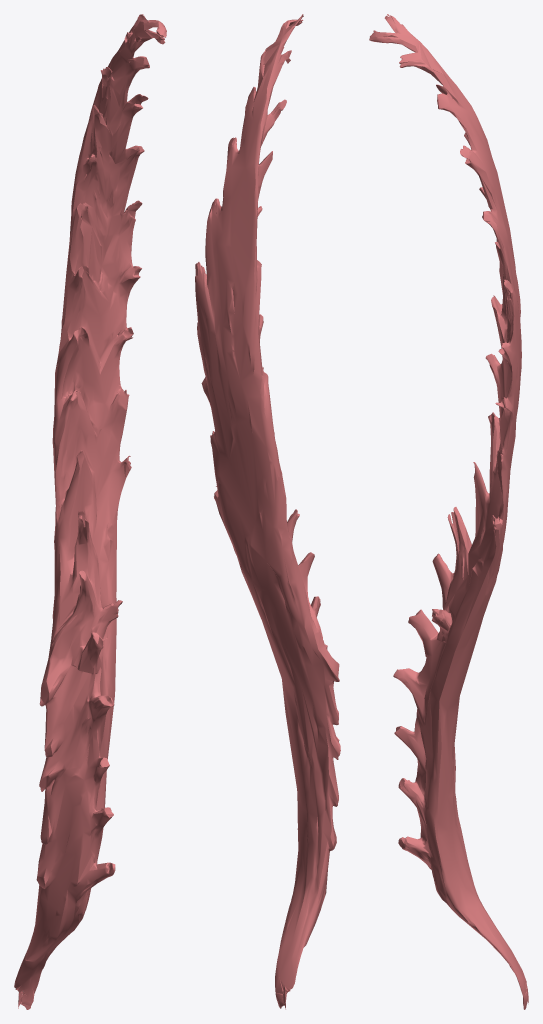
3 views of the same model, side by side, from view 1: azimuth 30°, elevation 25°; view 2: azimuth 150°, elevation 25°; view 3: azimuth 270°, elevation 25° (orthographic). The views are drawn at different scales.
Visible parts, largest first — view 1: FJ1535M; view 2: FJ1535M; view 3: FJ1535M.
Boxes of the visible parts, <box> form: FJ1535M: <box>14,14,166,1009</box>; FJ1535M: <box>195,14,340,1009</box>; FJ1535M: <box>369,14,528,1009</box>.
Bounding box in the file's own units: 0.069 × 0.5186 × 0.0737.
